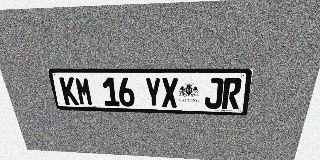1: (101, 77, 120, 106)
6: (117, 77, 135, 107)
J: (204, 78, 224, 109)
K: (59, 77, 79, 105)
M: (74, 77, 94, 106)
R: (222, 78, 242, 109)
X: (161, 78, 178, 108)
Y: (144, 78, 162, 107)
